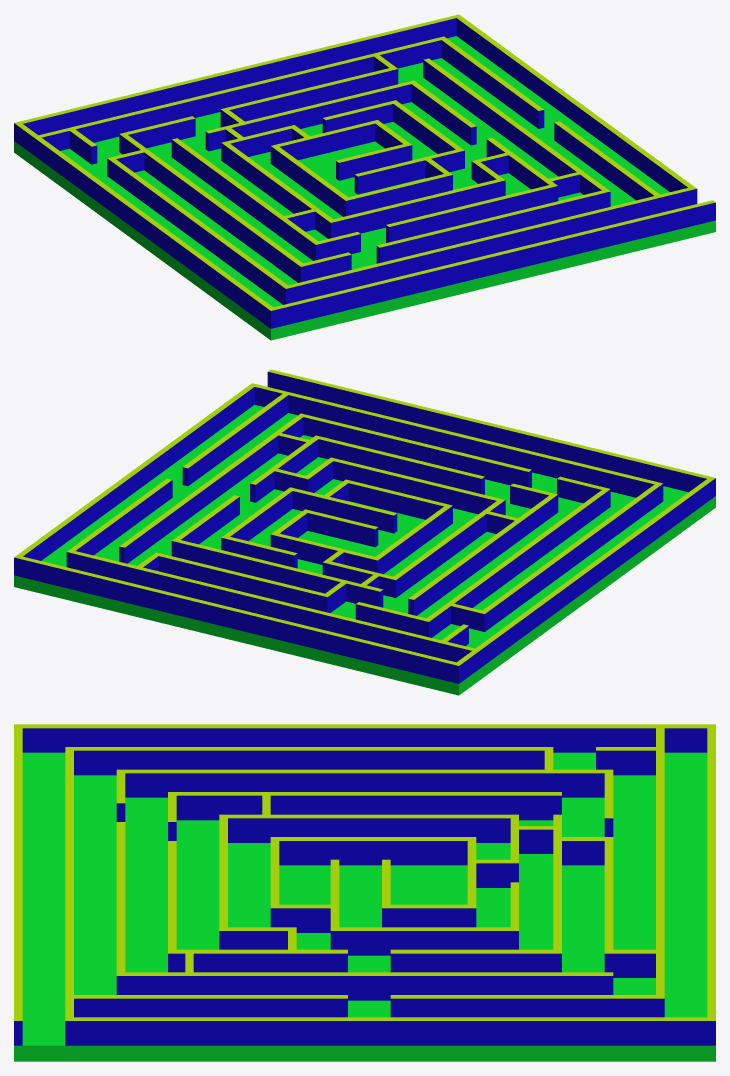
Rendered from laberinto.fbx.
3 views of the same model, one above another, from view 1: azimuth 30°, elevation 25°; view 2: azimuth 150°, elevation 25°; view 3: azimuth 270°, elevation 25° (orthographic). The views are drawn at different scales.
Visible parts, largest first — view 1: Cube; view 2: Cube; view 3: Cube.
Boxes of the visible parts, bbox=[...] form: Cube: bbox=[14, 14, 715, 340]; Cube: bbox=[14, 369, 715, 695]; Cube: bbox=[14, 724, 715, 1061].
Bounding box in the file's own units: 12.99 × 0.8245 × 12.99.
